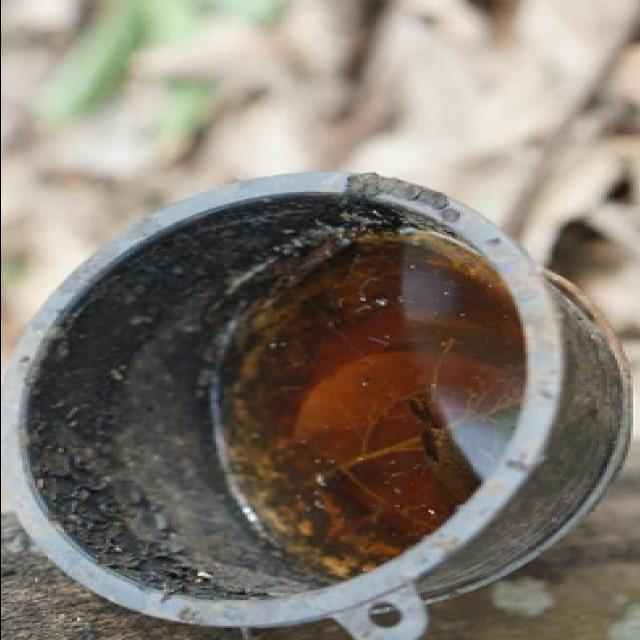Breeding Place: (0, 168, 627, 636)
